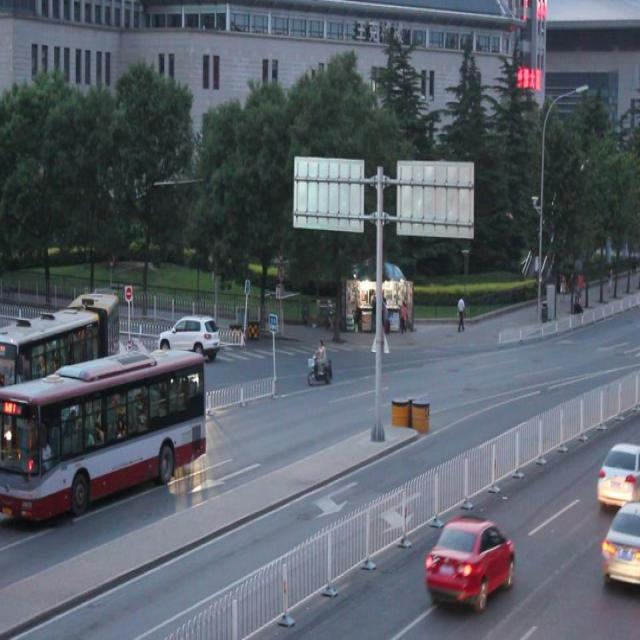car: (426, 512, 515, 614), (600, 503, 640, 581), (162, 309, 223, 359), (596, 439, 640, 504), (121, 332, 167, 387)
van: (1, 347, 205, 531), (0, 290, 119, 436)
